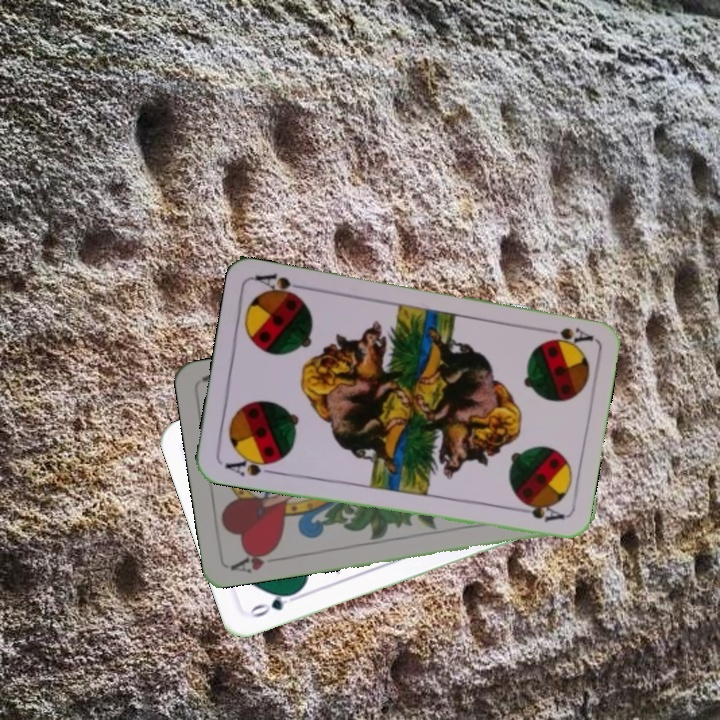GO: (246, 587, 303, 620)
HA: (227, 544, 286, 575)
SA: (221, 451, 279, 479), (536, 323, 595, 348)
